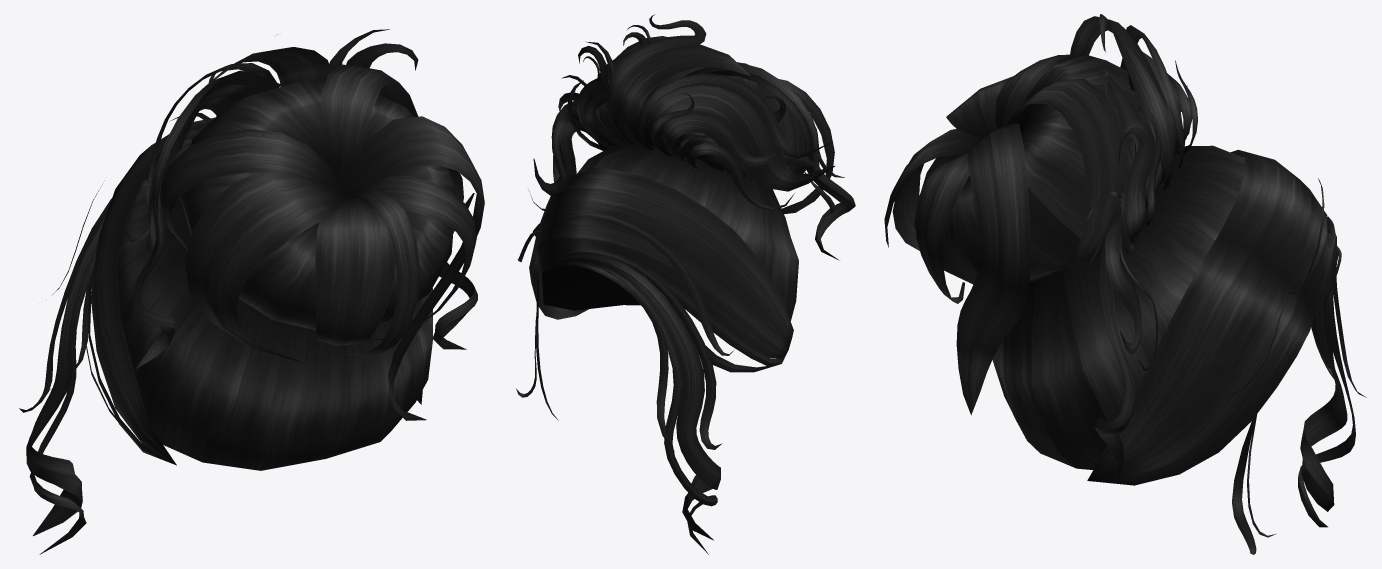
3 views of the same model, side by side, from view 1: azimuth 30°, elevation 25°; view 2: azimuth 150°, elevation 25°; view 3: azimuth 270°, elevation 25° (orthographic). The views are drawn at different scales.
Parts seen in each view (by area): view 1: geometry_0; view 2: geometry_0; view 3: geometry_0.
Boxes of the visible parts, box(x1,y1,x2,y2) form: geometry_0: box(19, 29, 484, 554); geometry_0: box(516, 14, 855, 554); geometry_0: box(884, 14, 1366, 554).
Bounding box in the file's own units: 1.82 × 2.65 × 2.
Materials: 1 (1 with a texture image).
